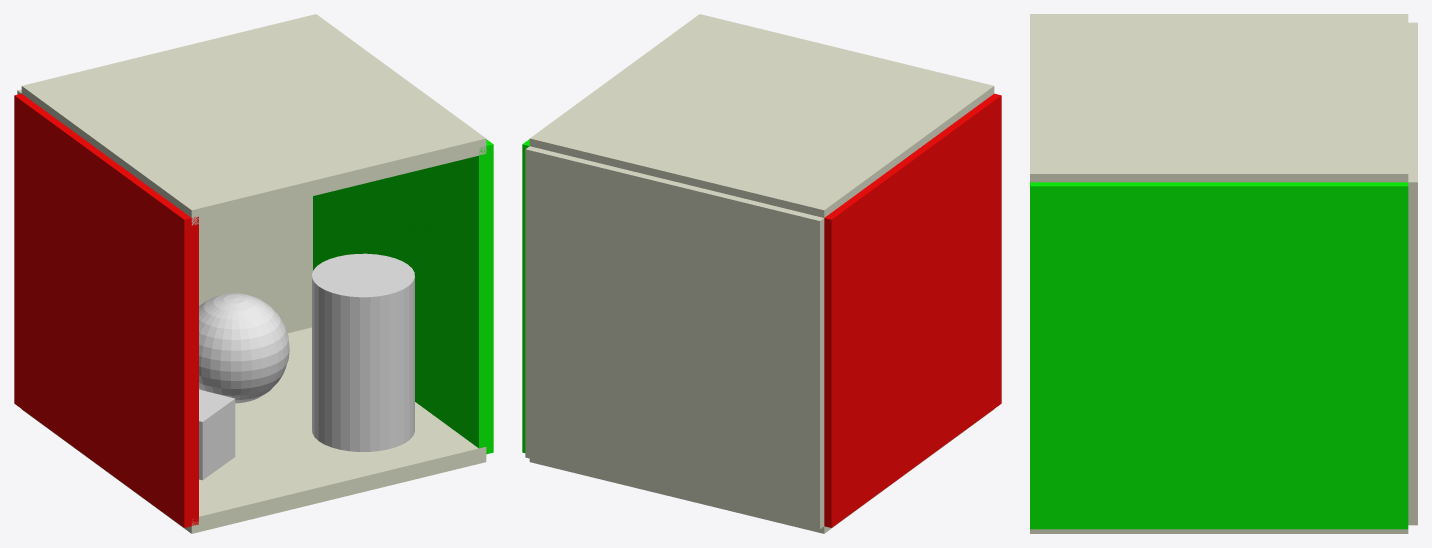
3 renders of one model, left to right at view 1: azimuth 30°, elevation 25°; view 2: azimuth 150°, elevation 25°; view 3: azimuth 270°, elevation 25°, orthographic. The views are drawn at different scales.
Parts seen in each view (by area): view 1: wall.003, wall, wall.001, Cylinder, Sphere, Cube; view 2: wall.003, wall, wall.001; view 3: wall.001, wall.003.
Boxes of the visible parts, x1,y1,x2,y2 form: wall.003: [17, 14, 486, 533]; wall: [14, 93, 198, 527]; wall.001: [313, 139, 493, 454]; Cylinder: [312, 253, 414, 451]; Sphere: [199, 293, 289, 403]; Cube: [199, 389, 235, 480]; wall.003: [525, 14, 994, 533]; wall: [824, 93, 1001, 527]; wall.001: [522, 139, 529, 452]; wall.001: [1030, 182, 1408, 529]; wall.003: [1030, 14, 1417, 533].
Size of the model in its own units: 2.1 by 2.1 by 2.05.
